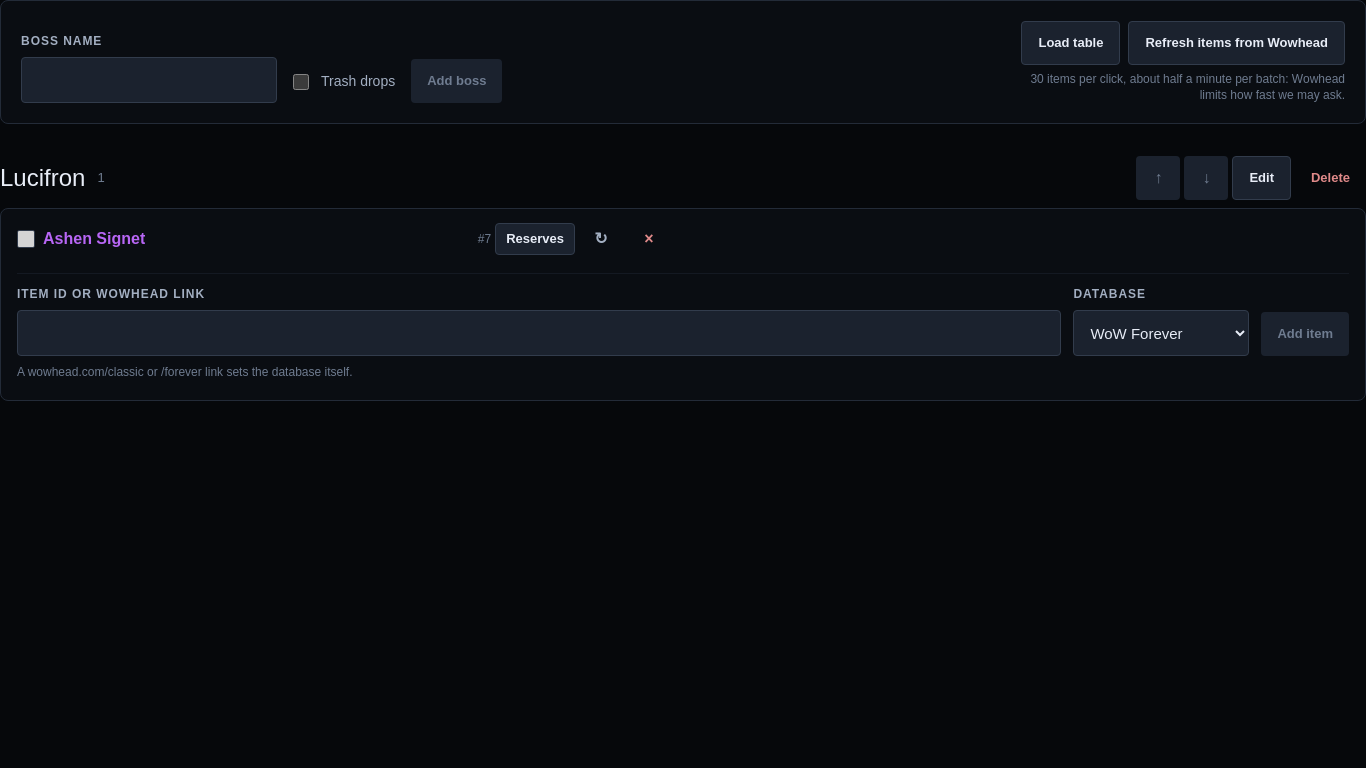
removing an item › keeps the dialog open and shows the error when the remove fails
What coordinates should you click on to do the following:
click the button named "Remove Ashen Signet from Lucifron"
I would click on:
 (649, 239)
Its box is [627, 217, 671, 261].
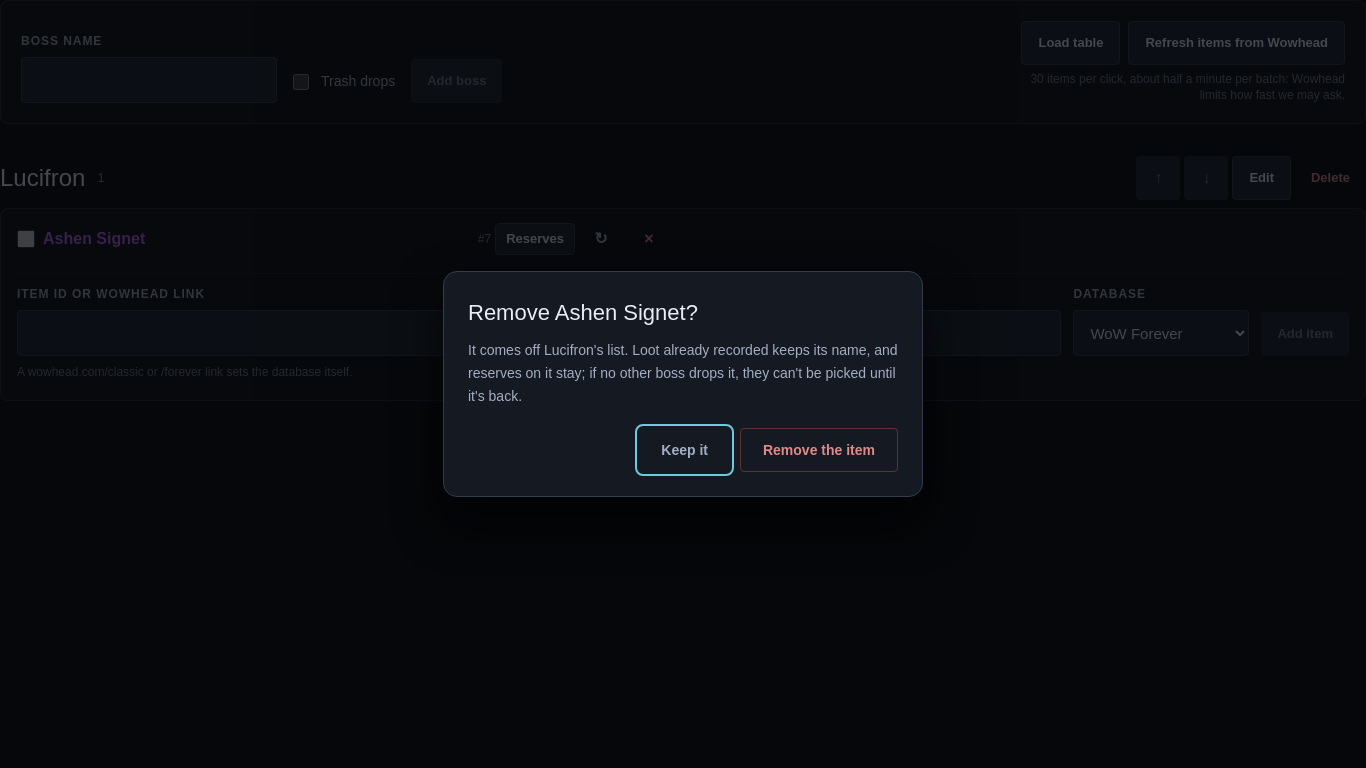
What coordinates should you click on to do the following:
click the button "Remove the item"
I would click on:
 (819, 450)
Its box is [740, 428, 898, 472].
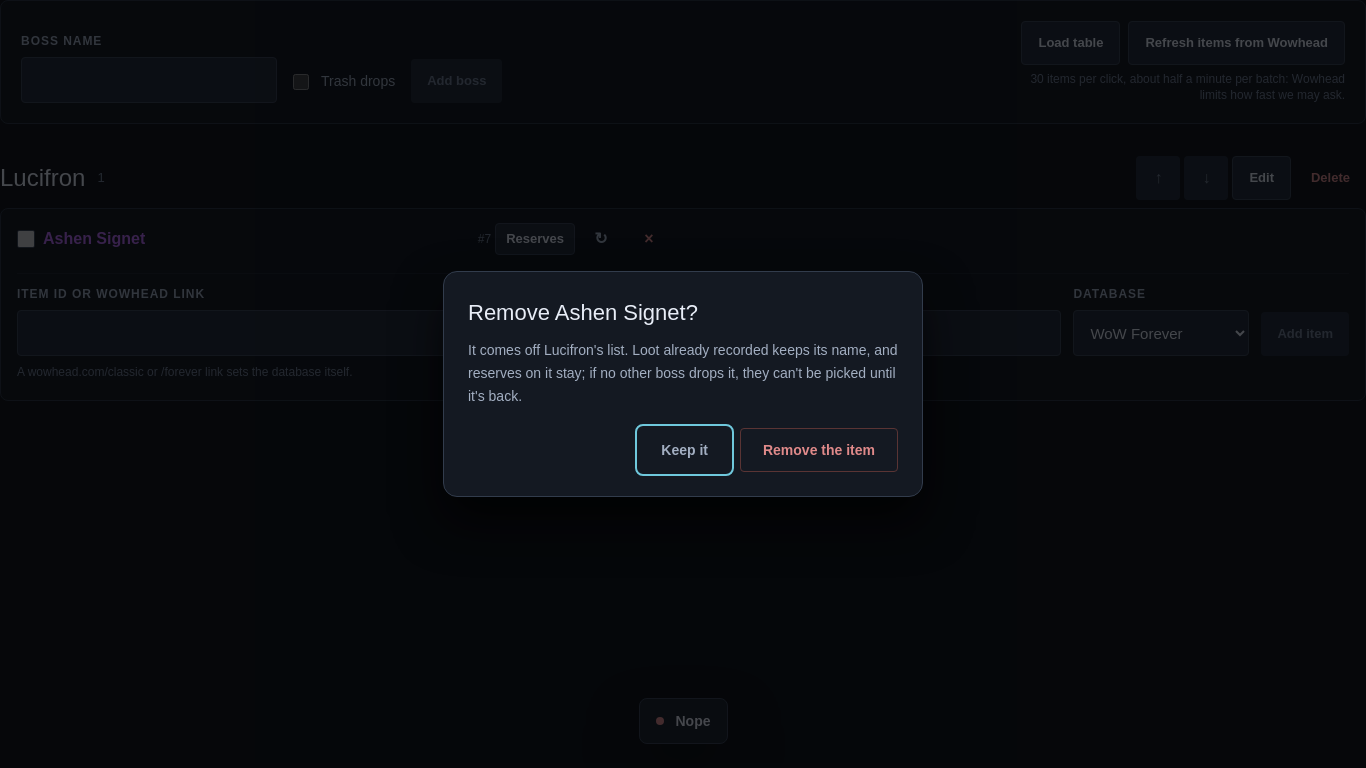
Expected: the text "Nope" is shown, [676, 711, 710, 731]
